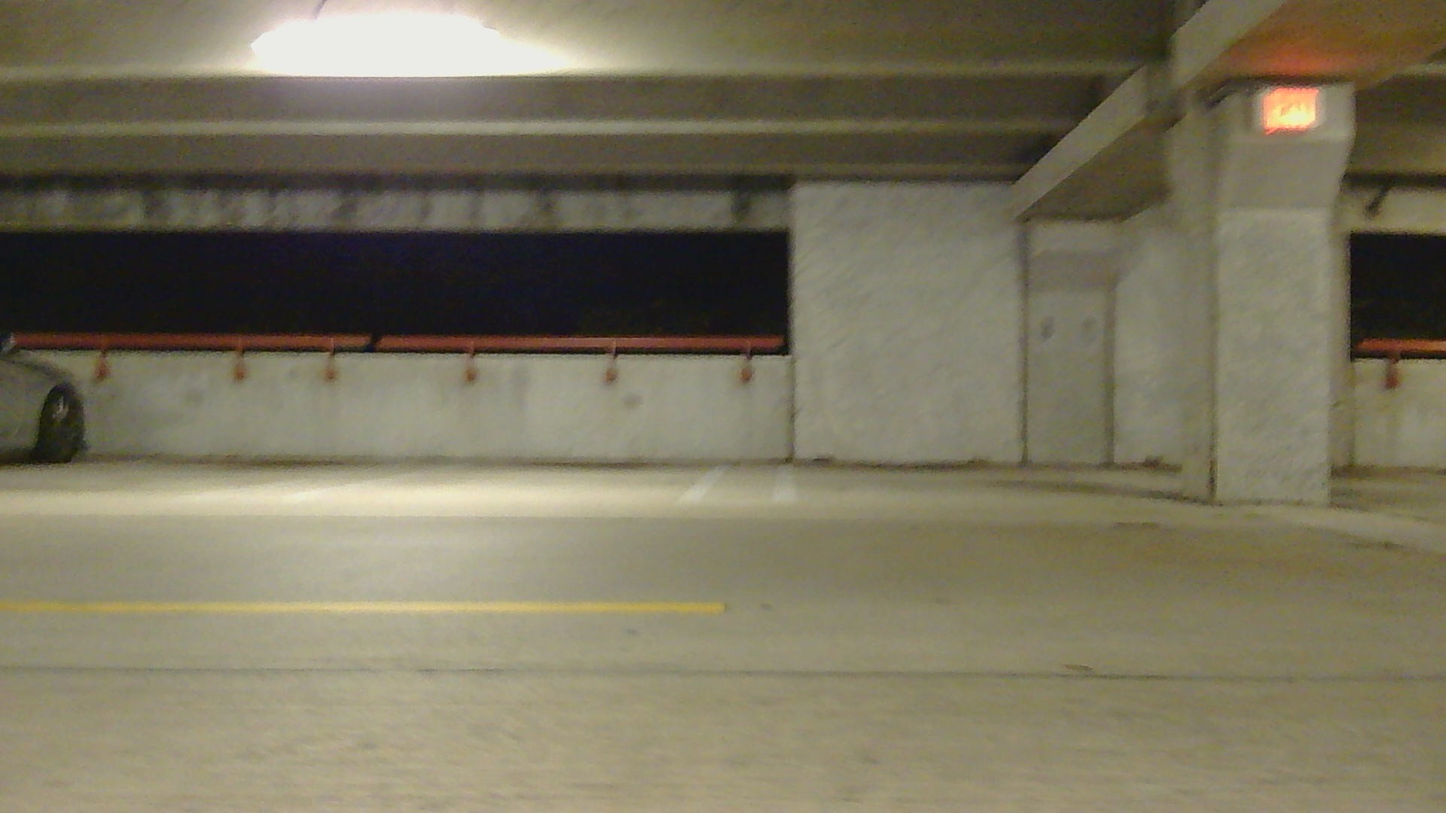empty_spot: (251, 405, 765, 507), (760, 395, 1193, 504), (0, 397, 390, 501)
